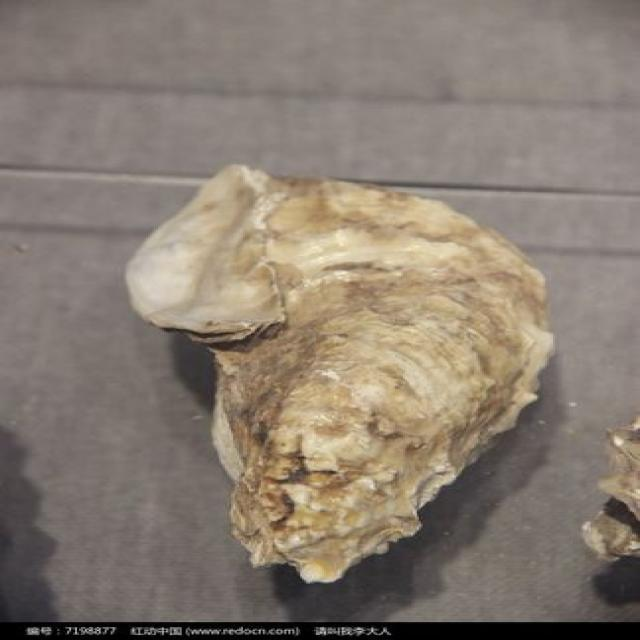Oyster- Indeterminate: (127, 165, 567, 588)
